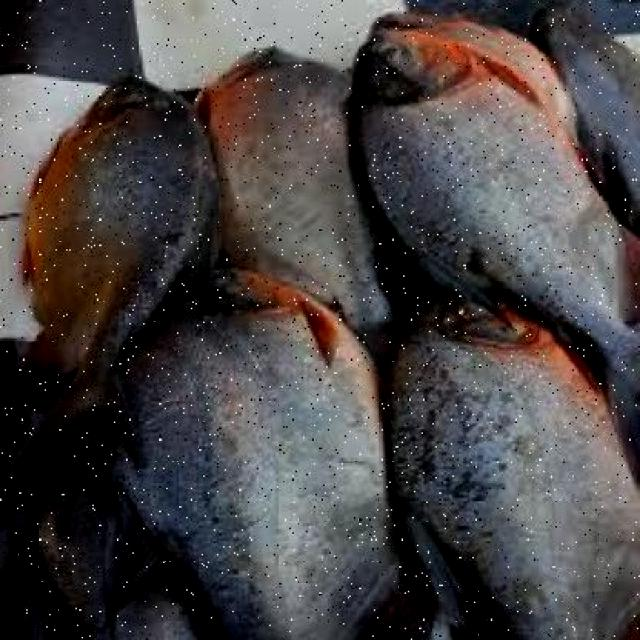ikan-pacu: (124, 263, 393, 639), (378, 300, 640, 638), (351, 27, 640, 316), (192, 43, 405, 311), (23, 71, 211, 351)
